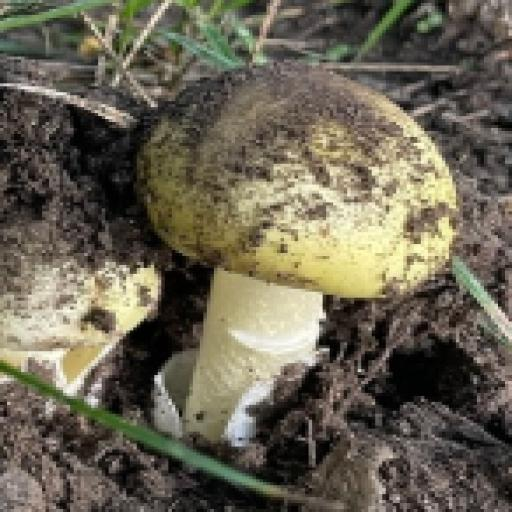mushroom: (23, 0, 499, 450)
